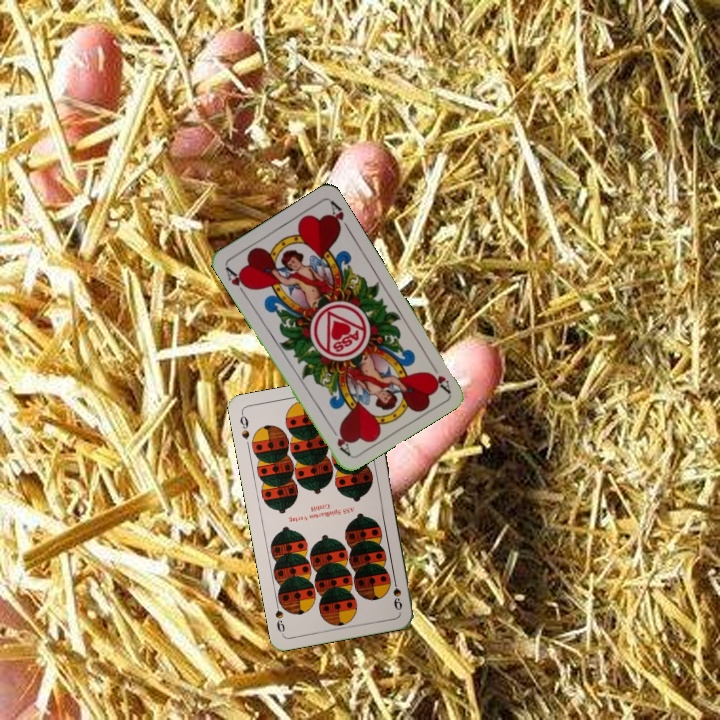HA: (221, 263, 252, 299), (424, 357, 453, 395)
S9: (389, 573, 405, 613), (236, 409, 252, 442)
